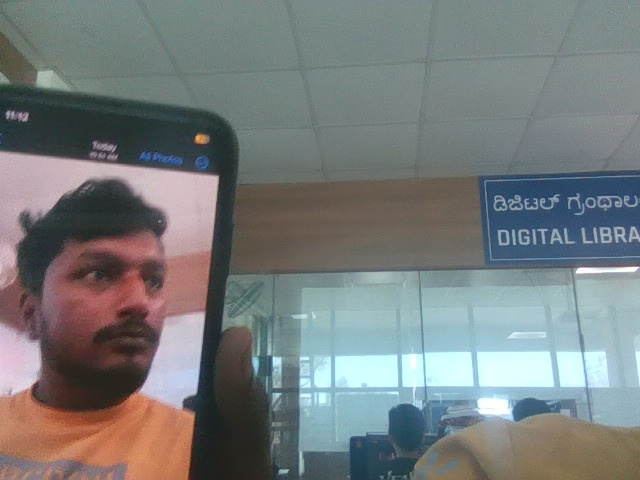fake: (23, 157, 197, 403)
